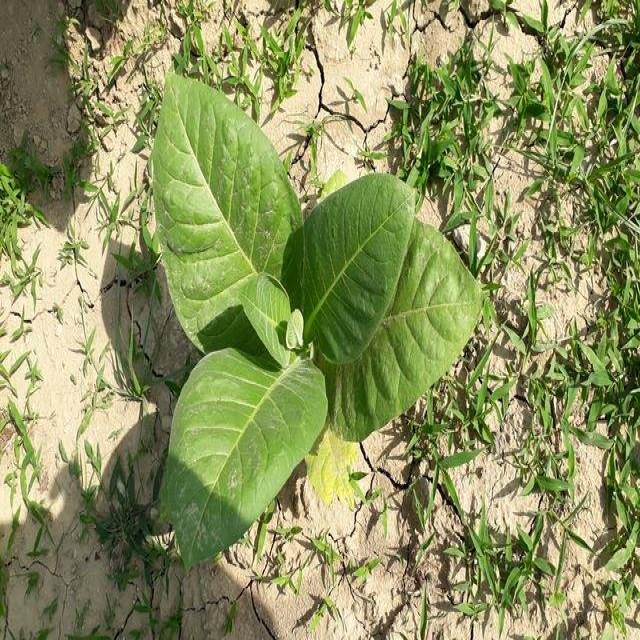crop: (159, 61, 479, 562)
